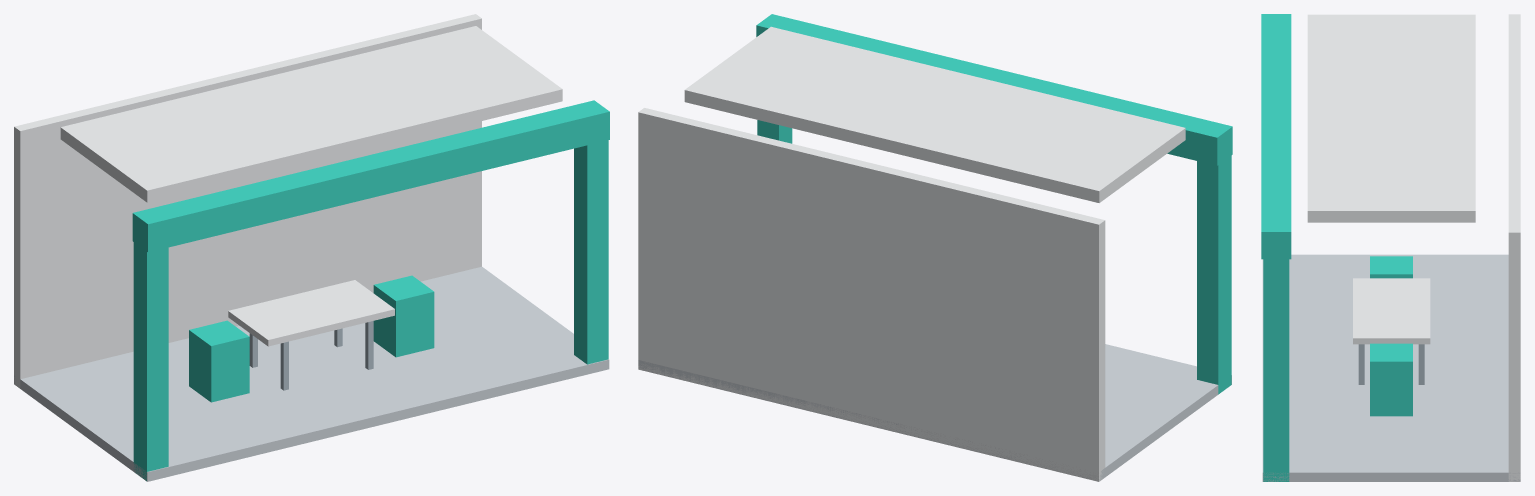
3 renders of one model, left to right at view 1: azimuth 30°, elevation 25°; view 2: azimuth 150°, elevation 25°; view 3: azimuth 270°, elevation 25°, orthographic. The views are drawn at different scales.
Parts seen in each view (by area): view 1: Exhibition Booth Concept; view 2: Exhibition Booth Concept; view 3: Exhibition Booth Concept.
Part boxes in pixels (x1,y1,x2,y2): Exhibition Booth Concept: (14, 14, 609, 481); Exhibition Booth Concept: (638, 14, 1232, 481); Exhibition Booth Concept: (1261, 14, 1520, 481).
Size of the model in its own units: 6 by 3.34 by 3.01.
